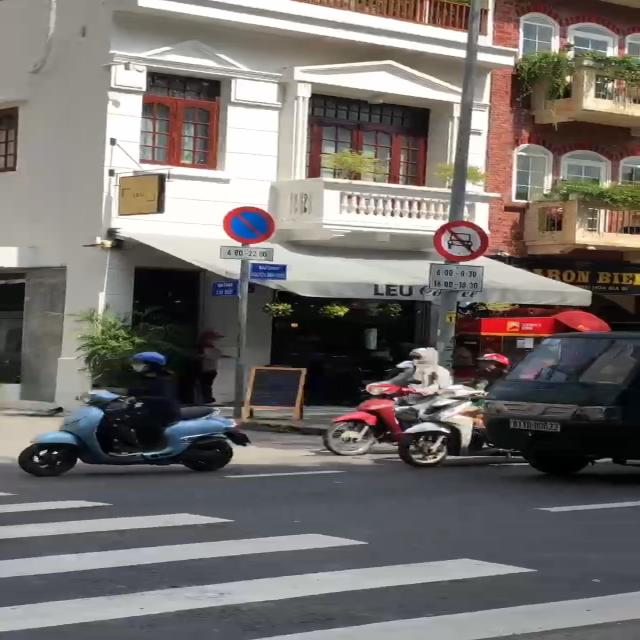Bien bao cam do xe: (221, 202, 280, 245)
Bien bao cam xe oto: (420, 217, 494, 262)
